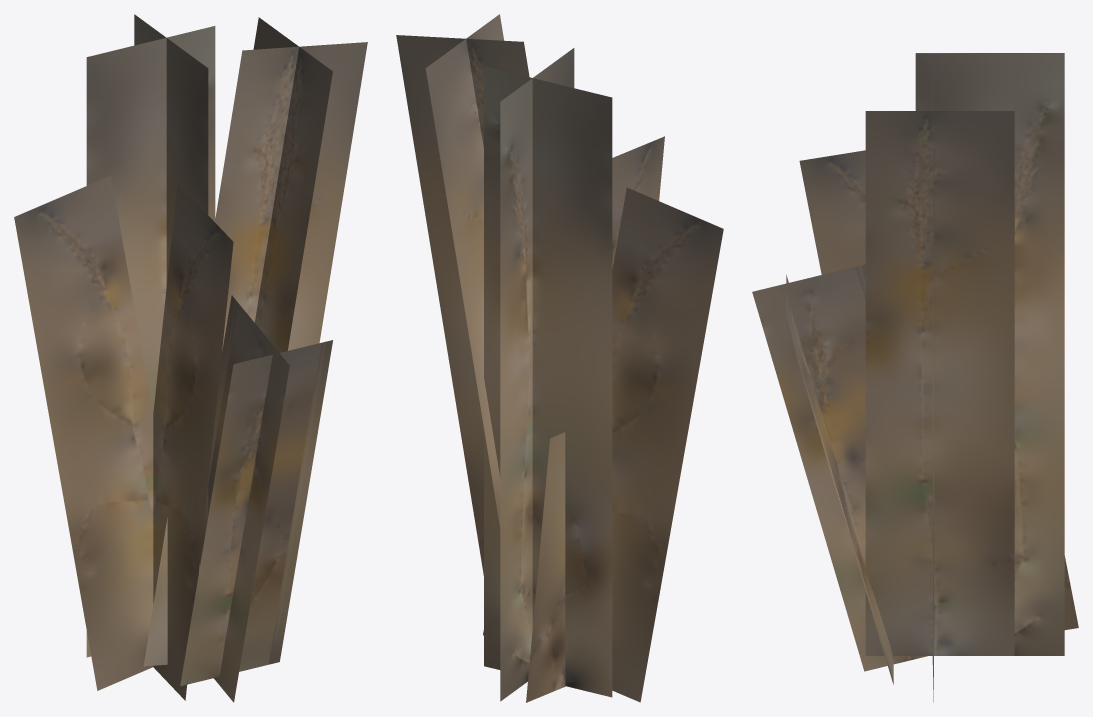
The model's file is reeds.fbx.
The picture shows the model from 3 angles, left to right: view 1: azimuth 30°, elevation 25°; view 2: azimuth 150°, elevation 25°; view 3: azimuth 270°, elevation 25°; orthographic projection.
Visible parts, largest first — view 1: reeds_1; view 2: reeds_1; view 3: reeds_1.
Boxes of the visible parts, x1,y1,x2,y2 form: reeds_1: [14, 14, 367, 702]; reeds_1: [396, 14, 723, 702]; reeds_1: [752, 53, 1078, 702].
Size of the model in its own units: 67.85 by 118 by 56.12.
Materials: 1 (1 with a texture image).
